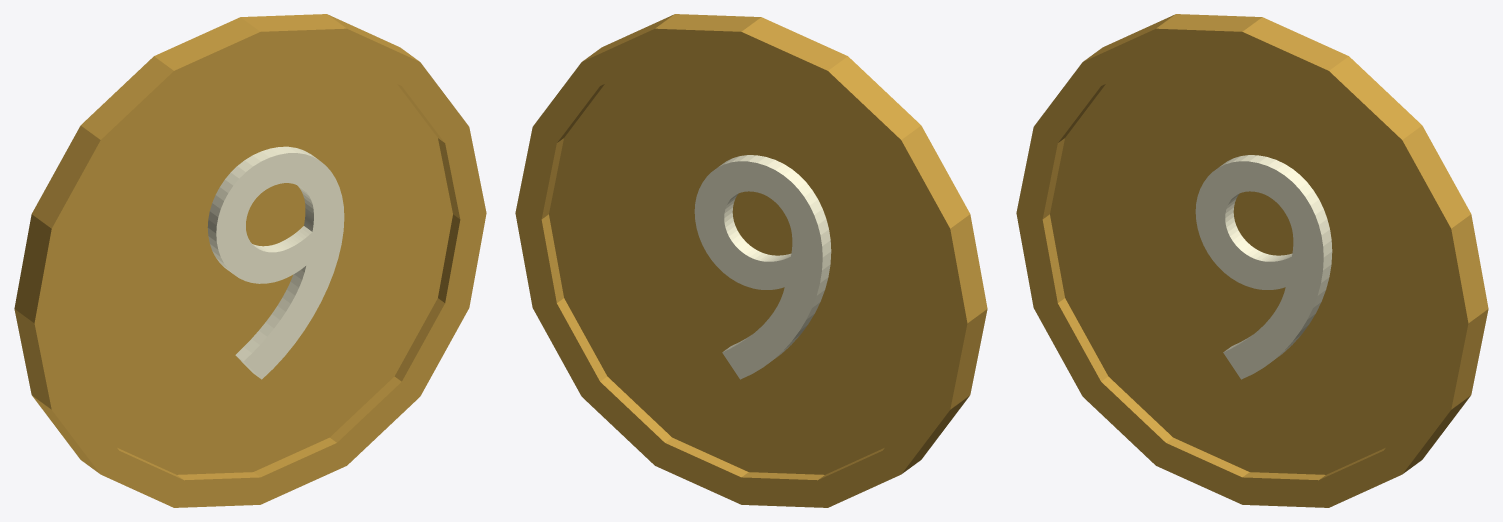
Rendered from Coin9.dae.
3 views of the same model, side by side, from view 1: azimuth 30°, elevation 25°; view 2: azimuth 150°, elevation 25°; view 3: azimuth 330°, elevation 25° (orthographic).
Parts seen in each view (by area): view 1: Circle_010, Text_011; view 2: Circle_010, Text_013; view 3: Circle_010, Text_011.
Boxes of the visible parts, left/top/right/bottom form: Circle_010: left=14, top=14, right=486, bottom=507; Text_011: left=207, top=146, right=344, bottom=379; Circle_010: left=515, top=14, right=987, bottom=507; Text_013: left=694, top=155, right=831, bottom=379; Circle_010: left=1016, top=14, right=1488, bottom=507; Text_011: left=1195, top=155, right=1332, bottom=379.
Size of the model in its own units: 0.9666 by 0.0839 by 0.9666.
